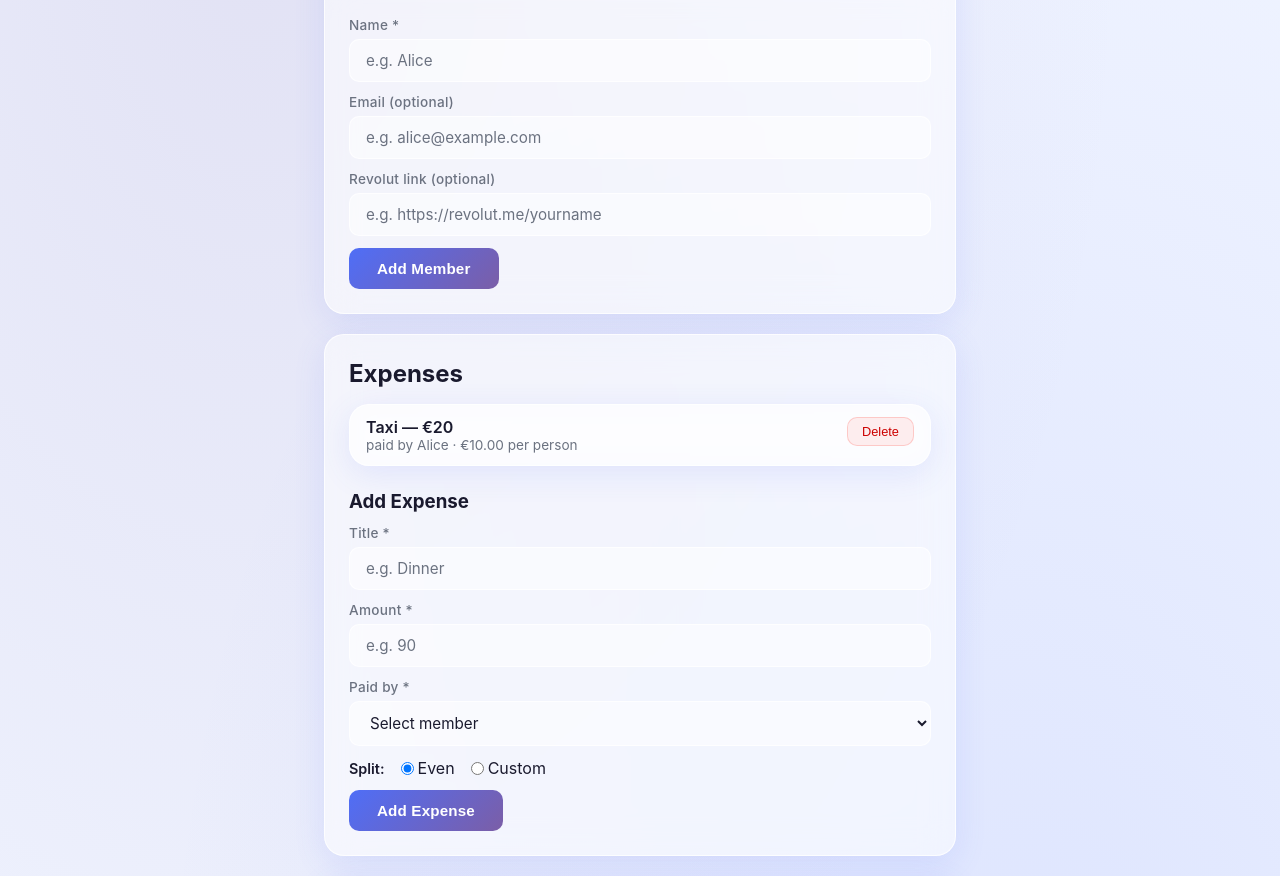
Scenario: GroupPage — add expense › deletes an expense after confirmation
(page scrolled)
expect the text "Taxi — €20" is shown: met, box [366,417,453,437]
What coordinates should you click on to do the following:
click the button "Delete"
I would click on:
 (880, 432)
Its box is [847,417,914,446].
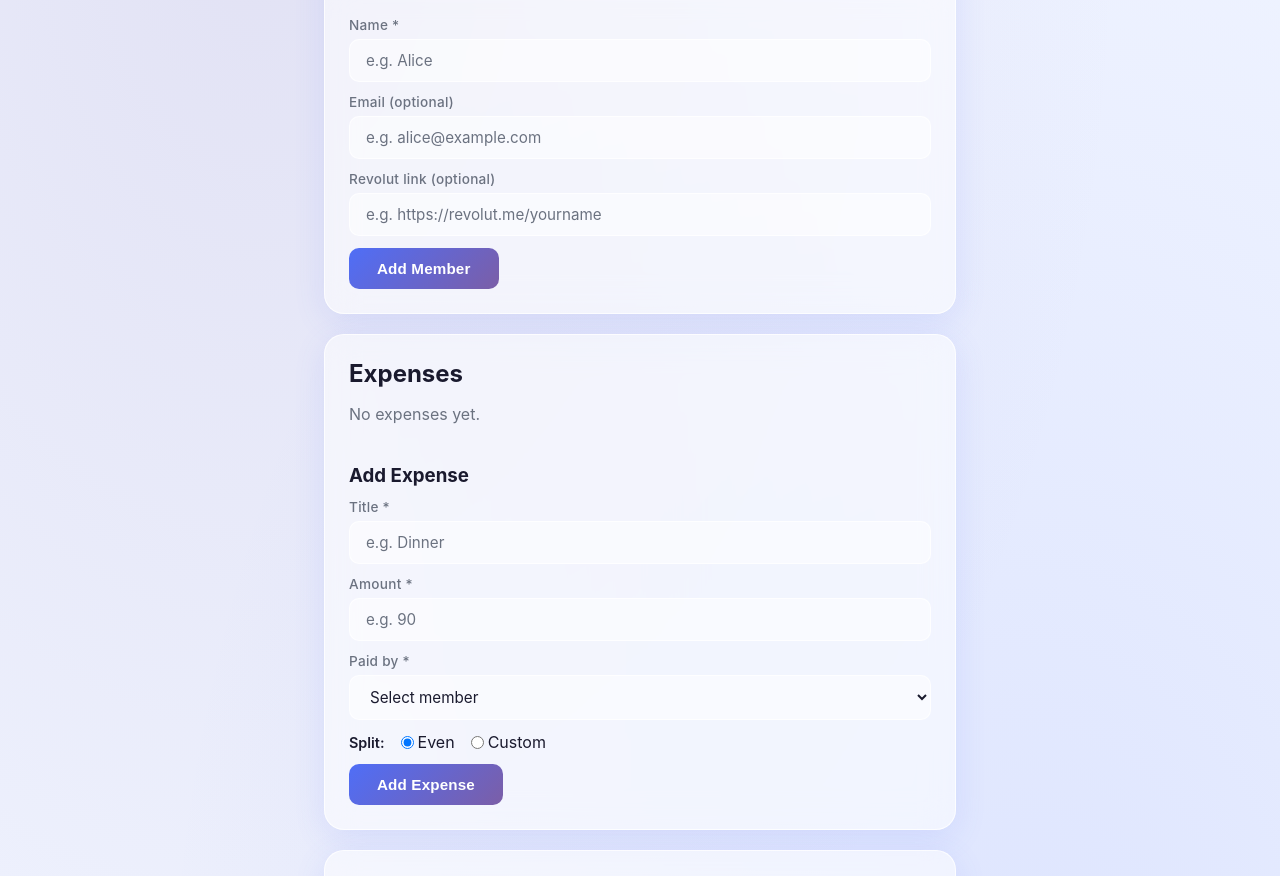
expect the text "Taxi" is gone: met
